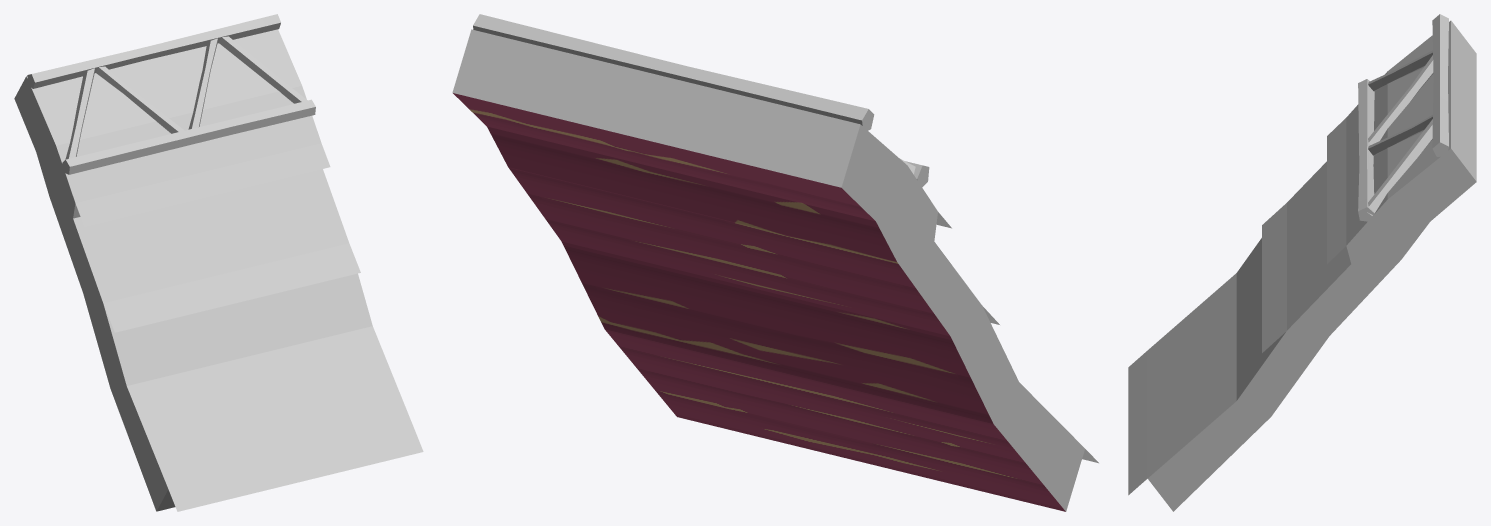
File: SM_Bld_Roof_Thatch_01.fbx
The picture shows the model from 3 angles, left to right: view 1: azimuth 30°, elevation 25°; view 2: azimuth 150°, elevation 25°; view 3: azimuth 270°, elevation 25°; orthographic projection. The views are drawn at different scales.
Visible parts, largest first — view 1: SM_Bld_Roof_Thatch_01; view 2: SM_Bld_Roof_Thatch_01; view 3: SM_Bld_Roof_Thatch_01.
Part boxes in pixels (x1,y1,x2,y2): SM_Bld_Roof_Thatch_01: (14,14,423,511); SM_Bld_Roof_Thatch_01: (452,14,1098,511); SM_Bld_Roof_Thatch_01: (1128,14,1476,511).
Bounding box in the file's own units: 251 × 336 × 287.
